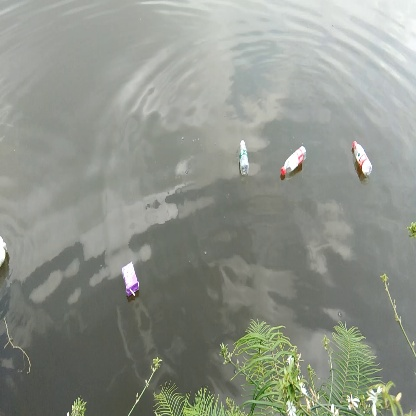bottle: (348, 137, 381, 188), (277, 144, 310, 182), (237, 138, 252, 178)
milk-box: (118, 259, 147, 301)
